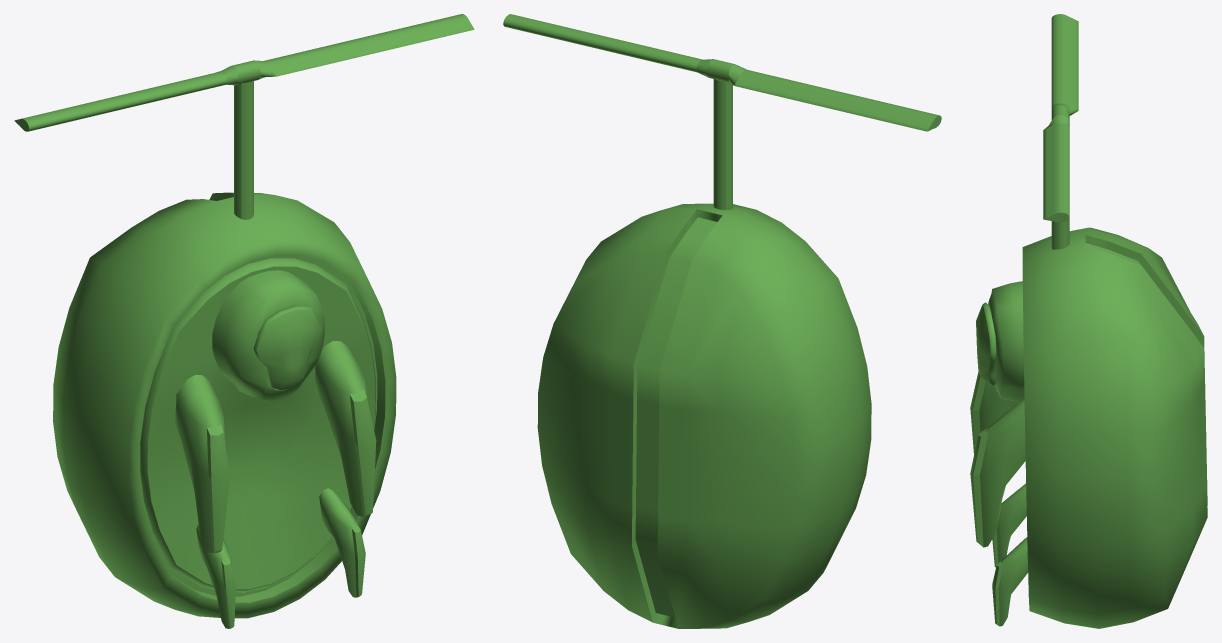
Rendered from FlyinBot.fbx.
3 views of the same model, side by side, from view 1: azimuth 30°, elevation 25°; view 2: azimuth 150°, elevation 25°; view 3: azimuth 270°, elevation 25° (orthographic). The views are drawn at different scales.
Parts seen in each view (by area): view 1: Body, Head, Propeller_1, LeftTopArm, LeftTopArm1, PropellerBase, LeftTopArm2, LeftTopArm3; view 2: Body, Propeller_1, PropellerBase; view 3: Body, Propeller_1, LeftTopArm, Head, LeftTopArm2, LeftTopArm1, LeftTopArm3, PropellerBase.
Part boxes in pixels (bbox=[...]): Body: bbox=[53, 192, 396, 618]; Head: bbox=[212, 270, 324, 401]; Propeller_1: bbox=[14, 14, 474, 131]; LeftTopArm: bbox=[315, 341, 376, 516]; LeftTopArm1: bbox=[175, 375, 229, 553]; PropellerBase: bbox=[234, 80, 253, 219]; LeftTopArm2: bbox=[319, 488, 365, 597]; LeftTopArm3: bbox=[196, 524, 236, 628]; Body: bbox=[537, 203, 871, 628]; Propeller_1: bbox=[503, 14, 941, 131]; PropellerBase: bbox=[713, 78, 732, 209]; Body: bbox=[1022, 227, 1207, 628]; Propeller_1: bbox=[1043, 14, 1078, 222]; LeftTopArm: bbox=[970, 398, 1025, 547]; Head: bbox=[976, 281, 1024, 401]; LeftTopArm2: bbox=[992, 537, 1027, 626]; LeftTopArm1: bbox=[970, 371, 1019, 454]; LeftTopArm3: bbox=[992, 483, 1026, 567]; PropellerBase: bbox=[1051, 218, 1069, 249].
Bounding box in the file's own units: 78.09 × 94.21 × 40.
